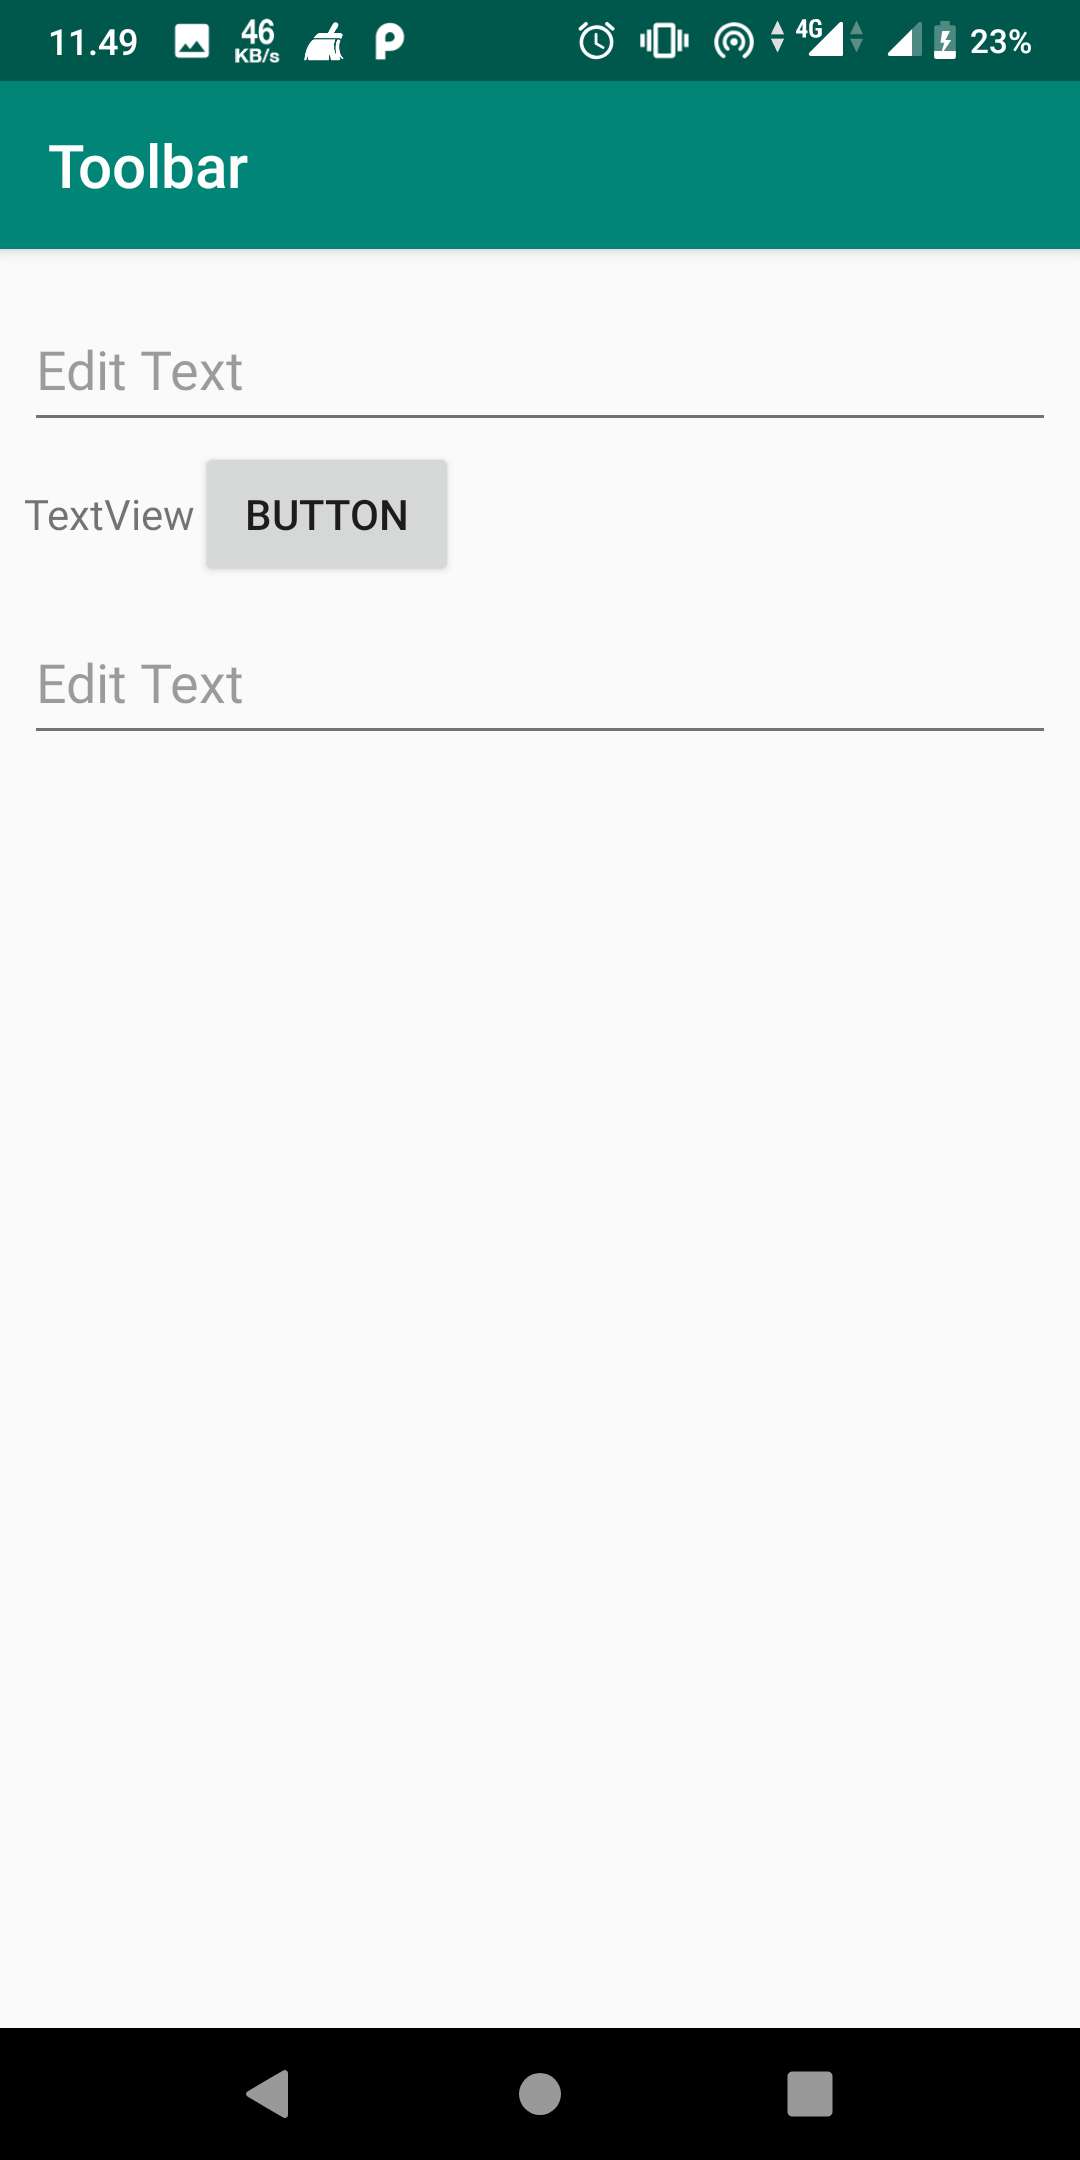button: (202, 457, 450, 580)
editText: (19, 315, 1061, 435), (19, 643, 1061, 748)
textView: (22, 486, 198, 544)
toolbar: (1, 83, 1077, 251)
